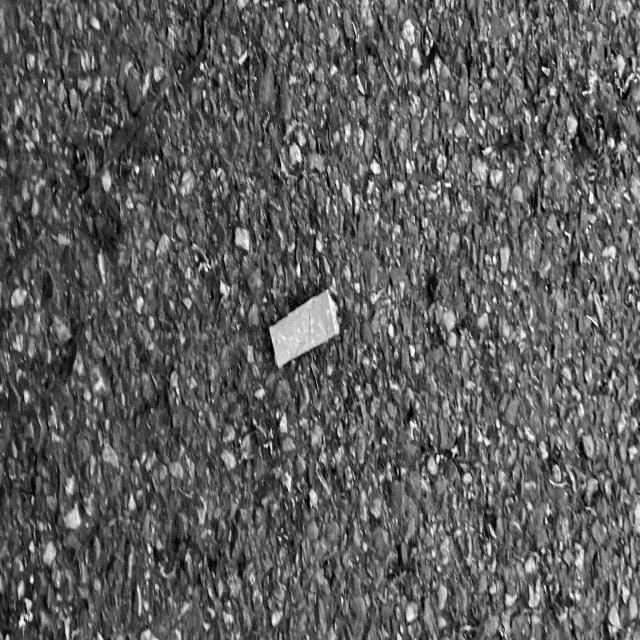other waste: (268, 289, 341, 370)
